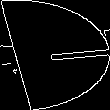L_W: (8, 36, 102, 74)
